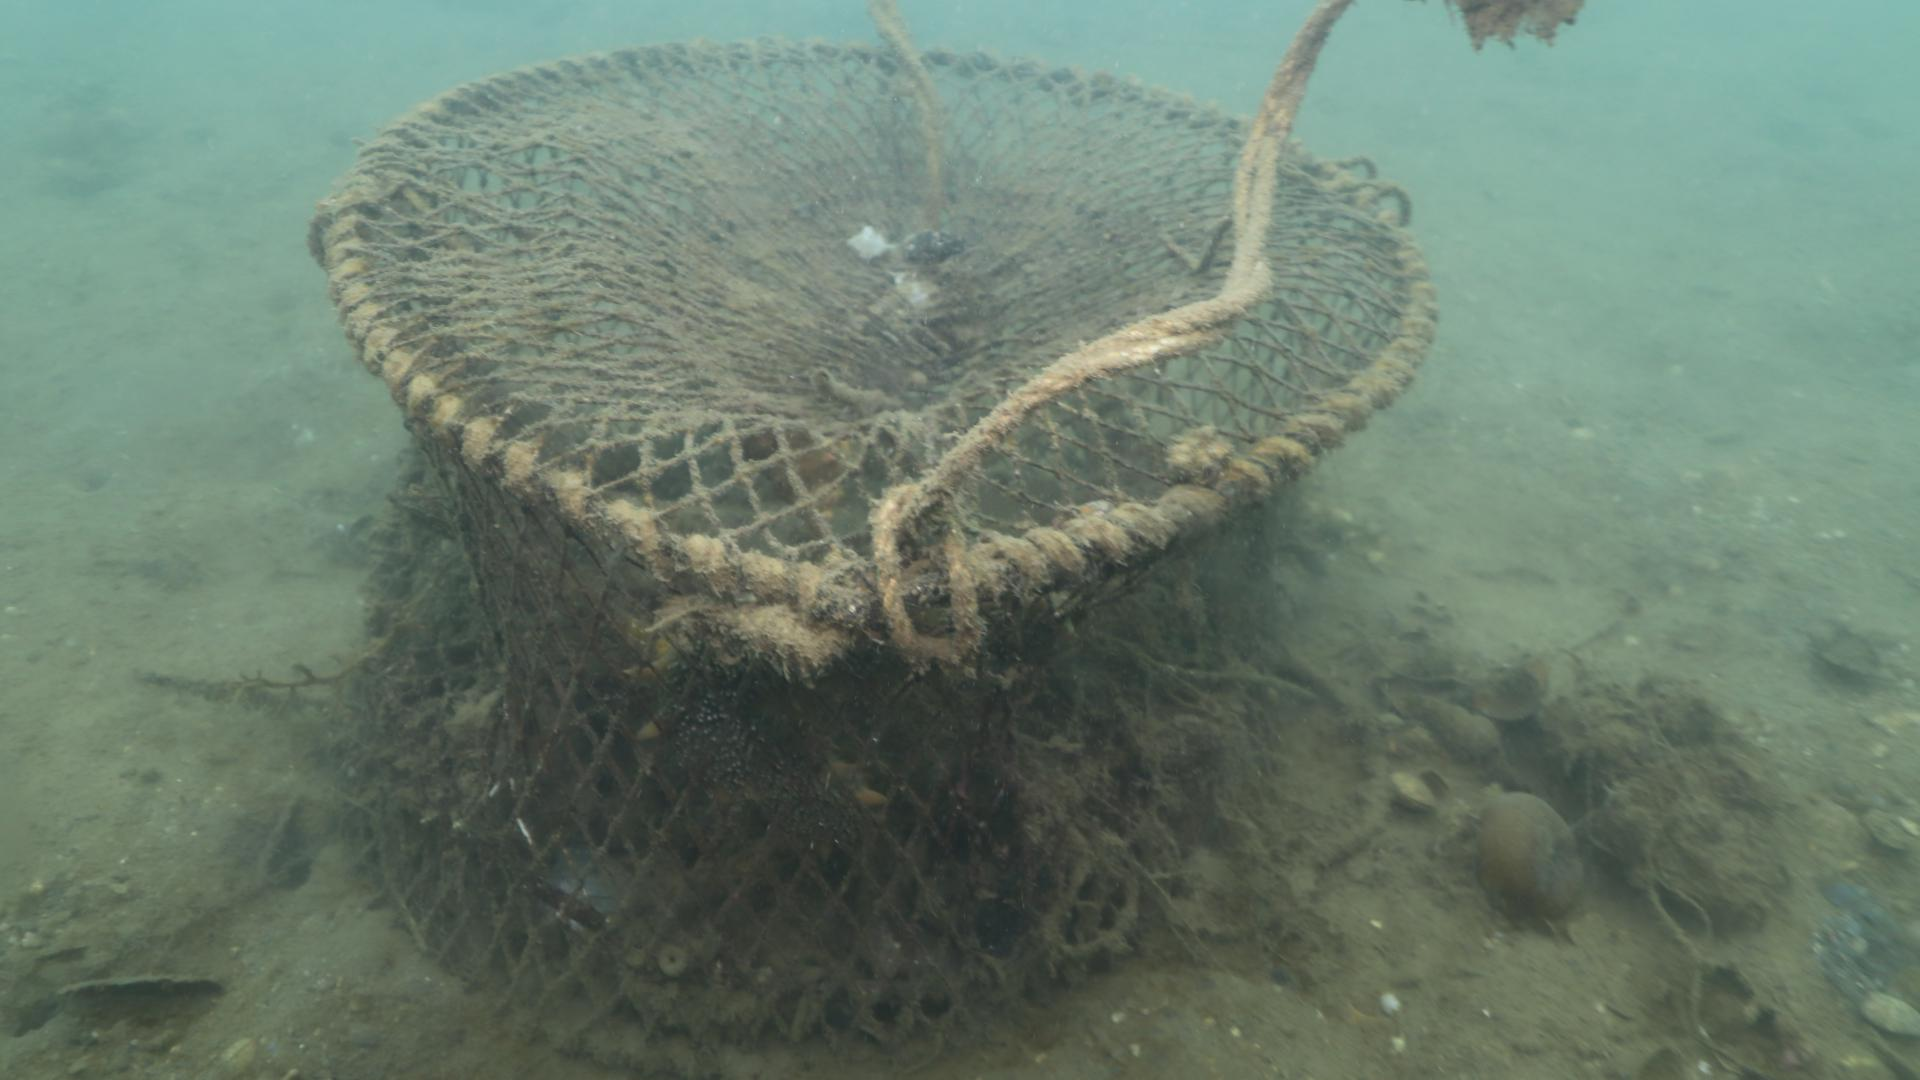circular fish trap: (318, 30, 1439, 1080)
rope: (825, 20, 1581, 662)
